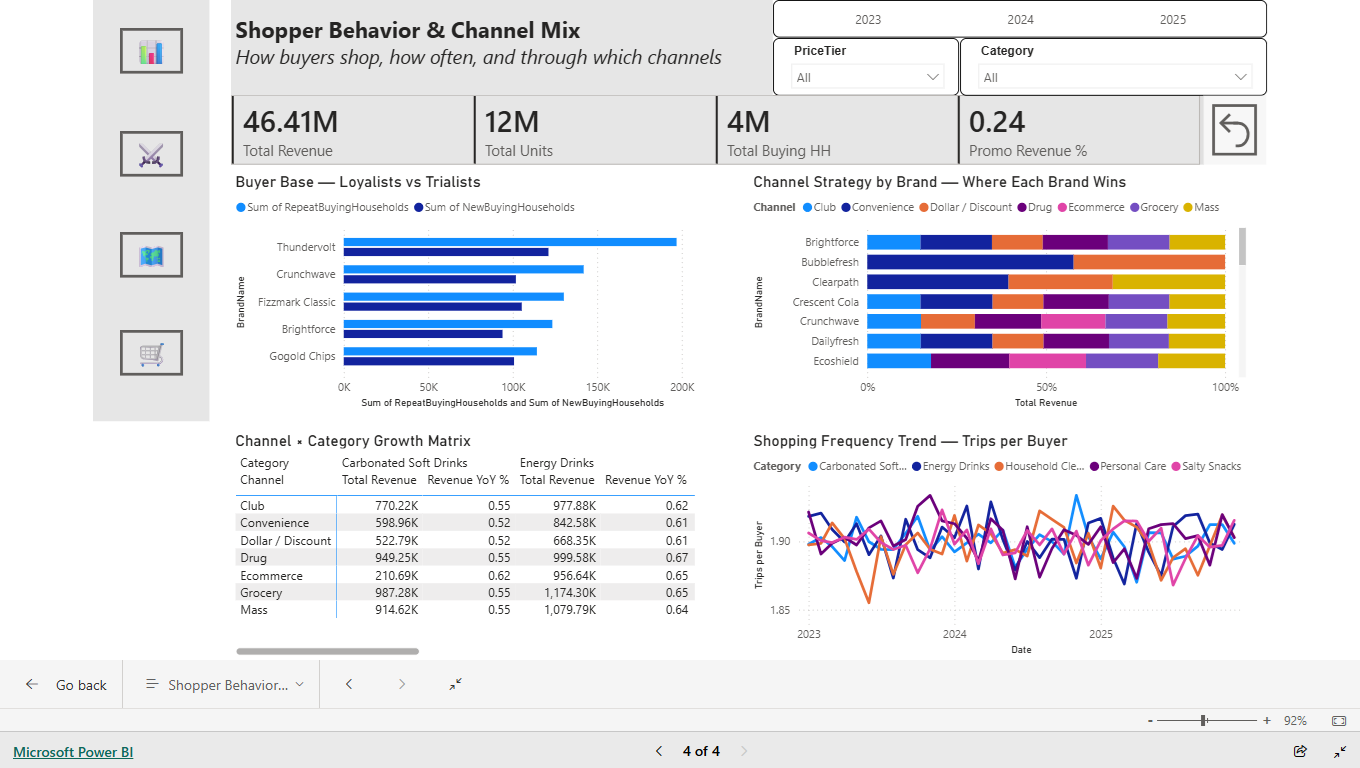

This screenshot's page, from the dashboard's own definition file:
{"tool":"powerbi","page":{"name":"Shopper Behavior & Channel Mix","canvas":[1280,720],"ordinal":3},"visuals":[{"type":"shape","box":[0,0,127.3,459.5],"z":0},{"type":"clusteredBarChart","title":"Buyer Base — Loyalists vs Trialists","fields":{"Category":["Dim_Brand.BrandName"],"Y":["Sum(Fact_Sales.RepeatBuyingHouseholds)","Sum(Fact_Sales.NewBuyingHouseholds)"]},"box":[150.7,187.3,510.7,262],"z":1000},{"type":"hundredPercentStackedBarChart","title":"Channel Strategy by Brand — Where Each Brand Wins","fields":{"Category":["Dim_Brand.BrandName"],"Y":["_Measures.Total Revenue"],"Series":["Dim_Channel.Dim_Channel"]},"box":[715.6,187.3,547.3,262],"z":2000},{"type":"pivotTable","title":"Channel × Category Growth Matrix","fields":{"Rows":["Dim_Channel.Dim_Channel"],"Columns":["Dim_Segment.Dim_Category"],"Values":["_Measures.Total Revenue","_Measures.Revenue YoY %"]},"box":[150.7,469.8,510.7,250.2],"z":3000},{"type":"lineChart","title":"Shopping Frequency Trend — Trips per Buyer","fields":{"Category":["Dim_Date.Date"],"Series":["Dim_Segment.Dim_Category"],"Y":["_Measures.Trips per Buyer"]},"box":[715.6,469.8,547.3,248.8],"z":4000},{"type":"slicer","fields":{"Values":["Dim_Brand.PriceTier"]},"box":[742,41,203.4,62.9],"z":5000},{"type":"cardVisual","fields":{"Data":["_Measures.Total Revenue","_Measures.Total Units","_Measures.Total Buying HH","_Measures.Promo Revenue %"]},"box":[150.7,103.9,1061,76.1],"z":6000},{"type":"slicer","fields":{"Values":["Dim_Date.Year"]},"box":[741.5,0,538.5,41],"z":7000},{"type":"slicer","fields":{"Values":["Dim_Segment.Dim_Category"]},"box":[945.4,41,335.1,62.9],"z":8000},{"type":"actionButton","box":[1211.2,103.9,68.8,76.1],"z":9000},{"type":"textbox","box":[150.7,0,591.2,103.9],"z":10000},{"type":"actionButton","title":"Overview","box":[29.3,30.7,68.8,49.8],"z":11000},{"type":"actionButton","box":[29.3,143.4,68.8,49.8],"z":12000},{"type":"actionButton","box":[29.3,253.2,68.8,49.8],"z":13000},{"type":"actionButton","box":[29.3,360,68.8,49.8],"z":14000}]}

Visuals, with their boxes on the page's 1280x720 design canvas (x1, y1, x2, y2). These are canvas units, not pixel positions in the 1360x768 screenshot, which may show the page scaled, cropped or inside an application window:
shape: crop(0, 0, 127, 460)
"Buyer Base — Loyalists vs Trialists" clusteredBarChart: crop(151, 187, 661, 449)
"Channel Strategy by Brand — Where Each Brand Wins" hundredPercentStackedBarChart: crop(716, 187, 1263, 449)
"Channel × Category Growth Matrix" pivotTable: crop(151, 470, 661, 720)
"Shopping Frequency Trend — Trips per Buyer" lineChart: crop(716, 470, 1263, 719)
slicer - Dim_Brand.PriceTier: crop(742, 41, 945, 104)
cardVisual - _Measures.Total Revenue x _Measures.Total Units: crop(151, 104, 1212, 180)
slicer - Dim_Date.Year: crop(742, 0, 1280, 41)
slicer - Dim_Segment.Dim_Category: crop(945, 41, 1280, 104)
actionButton: crop(1211, 104, 1280, 180)
textbox: crop(151, 0, 742, 104)
"Overview" actionButton: crop(29, 31, 98, 80)
actionButton: crop(29, 143, 98, 193)
actionButton: crop(29, 253, 98, 303)
actionButton: crop(29, 360, 98, 410)
